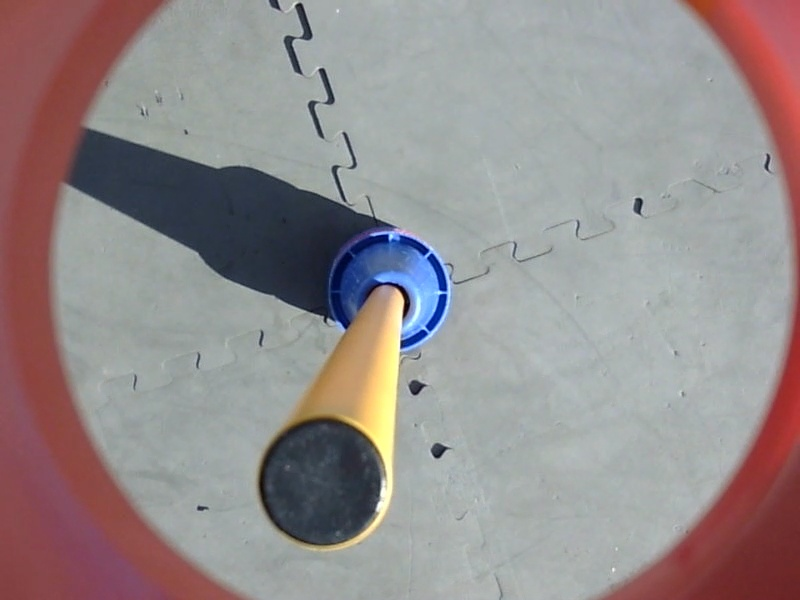tip: (252, 409, 400, 556)
